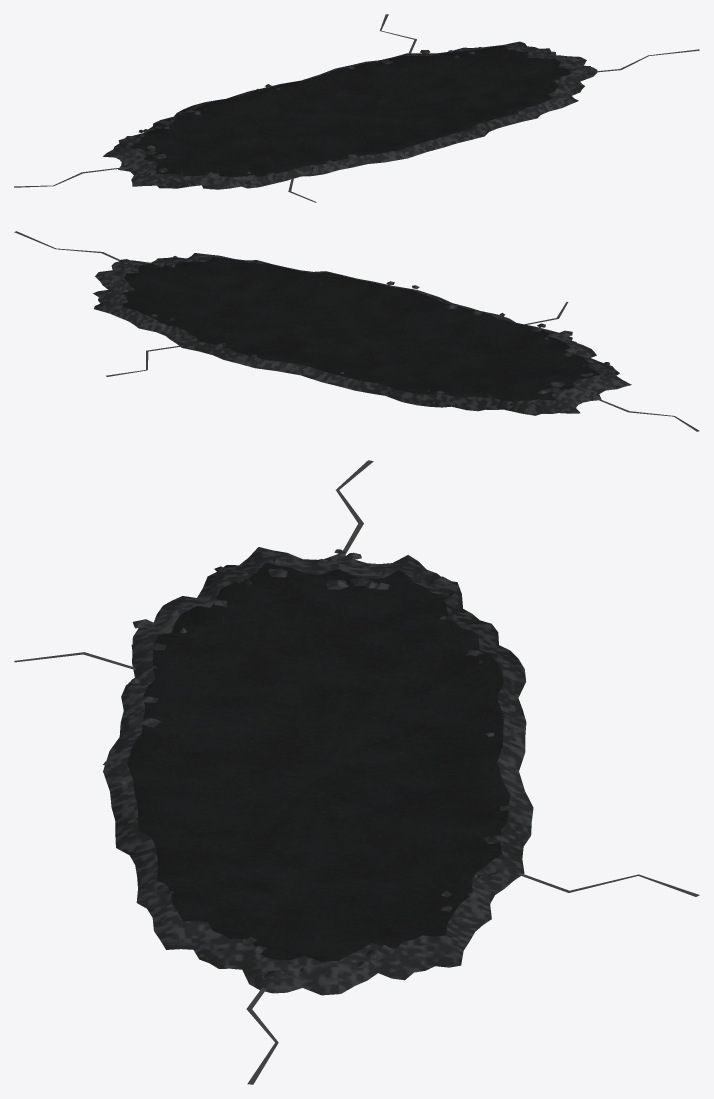
Rendered from shallow-road-scar-1m.glb.
3 views of the same model, one above another, from view 1: azimuth 30°, elevation 25°; view 2: azimuth 150°, elevation 25°; view 3: azimuth 270°, elevation 25° (orthographic). The views are drawn at different scales.
Visible parts, largest first — view 1: Shallow fretted road surface, Exposed millimetre aggregate chips; view 2: Shallow fretted road surface, Exposed millimetre aggregate chips; view 3: Shallow fretted road surface, Exposed millimetre aggregate chips.
Part boxes in pixels (x1,y1,x2,y2): Shallow fretted road surface: (103,41,597,189); Exposed millimetre aggregate chips: (122,47,590,185); Shallow fretted road surface: (93,253,631,415); Exposed millimetre aggregate chips: (107,256,610,408); Shallow fretted road surface: (103,547,533,995); Exposed millimetre aggregate chips: (103,549,519,979).
Size of the model in its own units: 1.49 by 0.0136 by 0.6925.
Materials: 3 (2 with a texture image).
